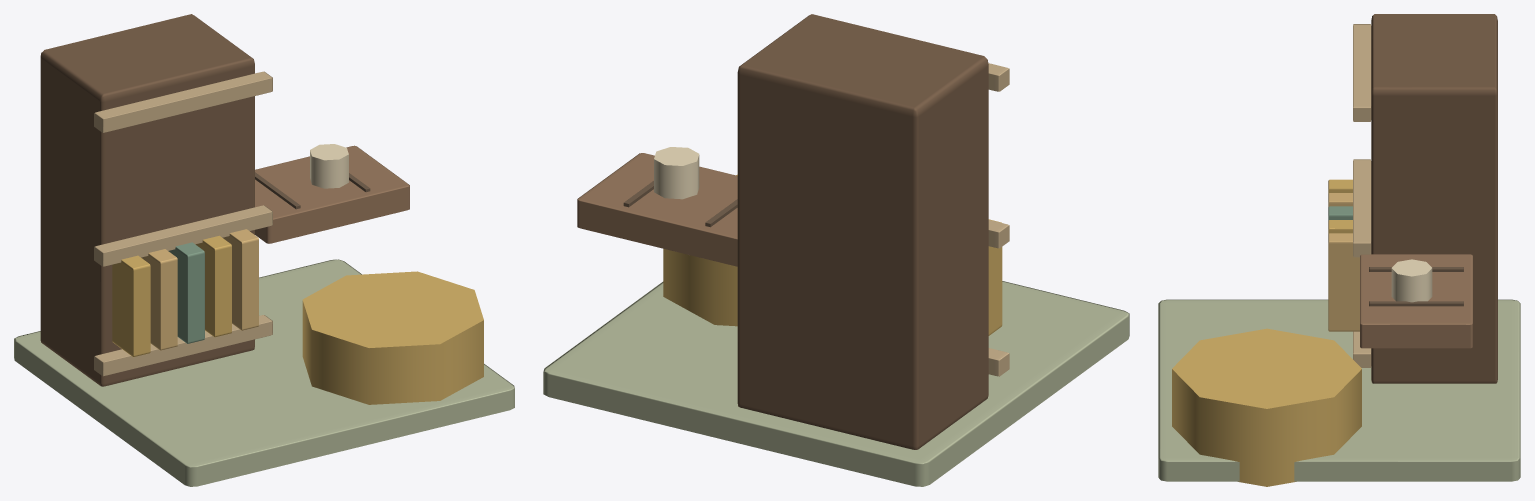
File: readingnook-3.glb
3 views of the same model, side by side, from view 1: azimuth 30°, elevation 25°; view 2: azimuth 150°, elevation 25°; view 3: azimuth 270°, elevation 25° (orthographic). The views are drawn at different scales.
Visible parts, largest first — view 1: readingnook-3-0; view 2: readingnook-3-0; view 3: readingnook-3-0.
Part boxes in pixels (box(x1,y1,x2,y2)): readingnook-3-0: box(14, 14, 514, 486); readingnook-3-0: box(543, 14, 1129, 486); readingnook-3-0: box(1158, 14, 1520, 486).
Bounding box in the file's own units: 0.875 × 0.77 × 0.8.
